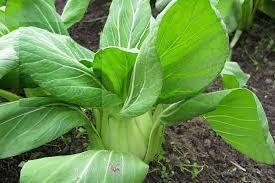Healthy-Pechay: (0, 0, 269, 181), (0, 107, 39, 140), (162, 24, 199, 58), (110, 0, 128, 48), (46, 71, 97, 87)
